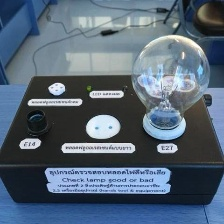book: (0, 71, 224, 210)
light_bulb: (126, 29, 215, 148)
